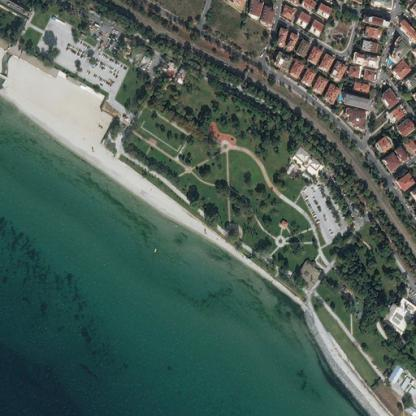ship: (153, 247, 156, 253)
